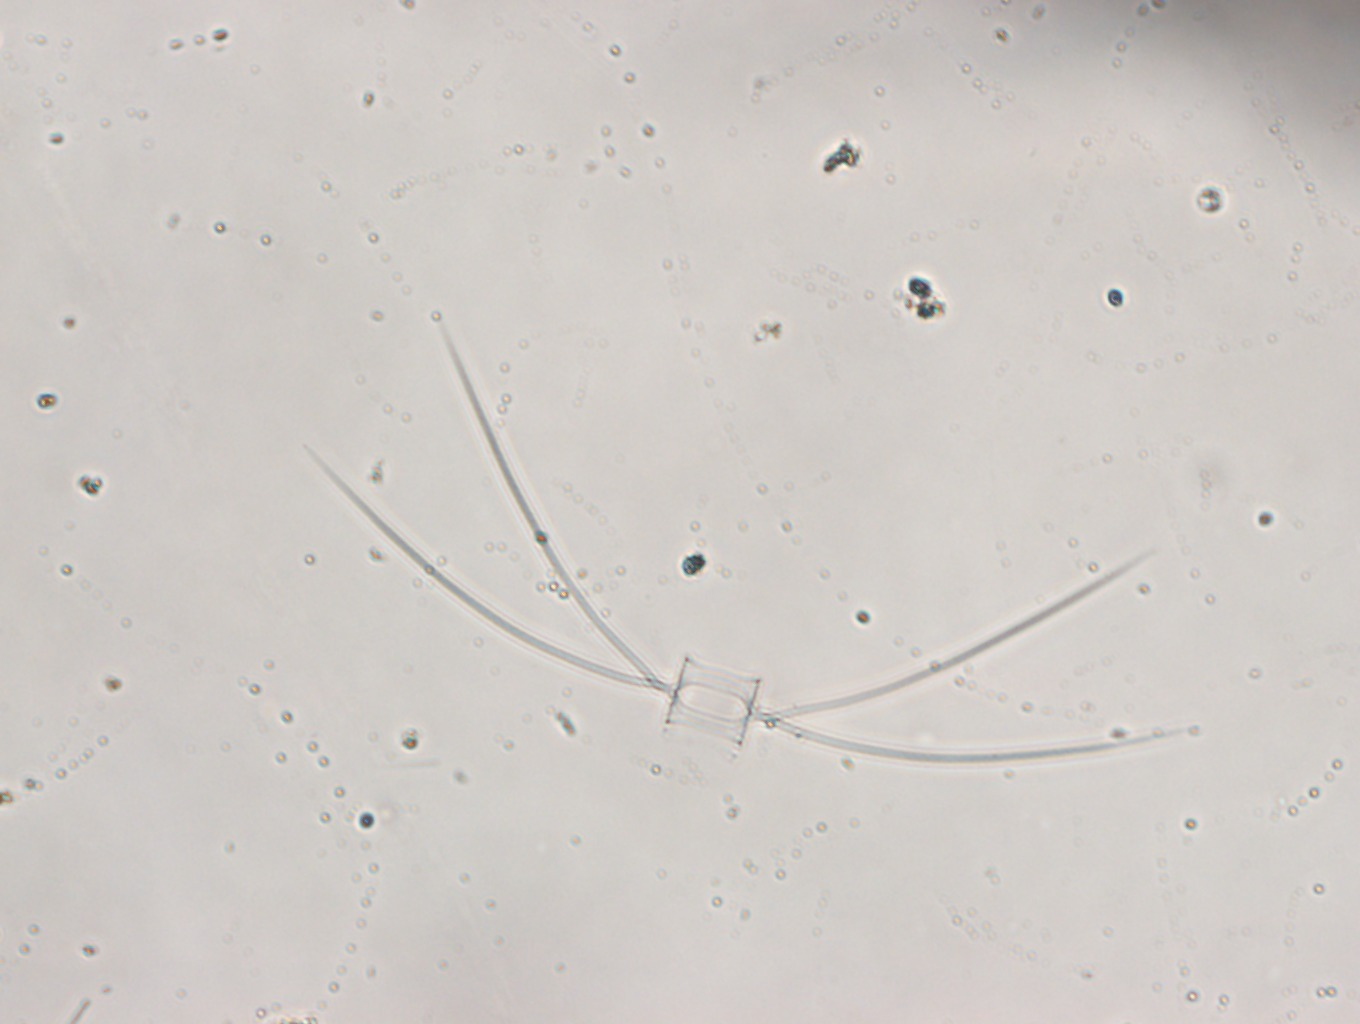chaetoceros: (300, 325, 1171, 760)
